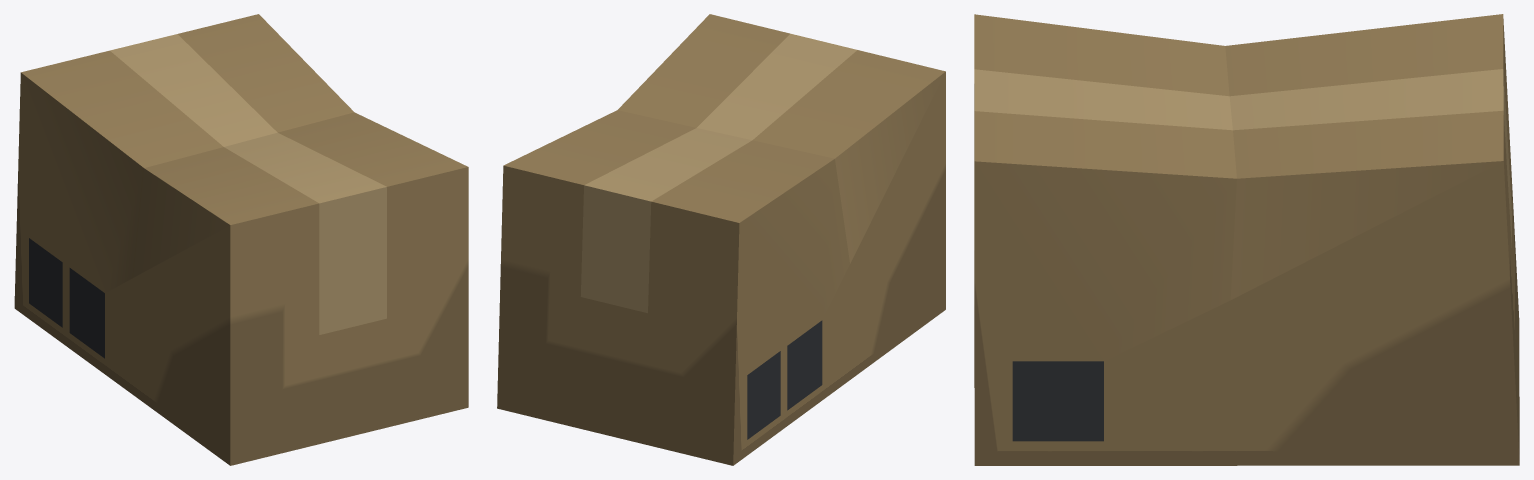
The model's file is SM_Prop_CardboardBox_05.fbx.
3 renders of one model, left to right at view 1: azimuth 30°, elevation 25°; view 2: azimuth 150°, elevation 25°; view 3: azimuth 270°, elevation 25°, orthographic. The views are drawn at different scales.
Parts seen in each view (by area): view 1: SM_Prop_CardboardBox_05; view 2: SM_Prop_CardboardBox_05; view 3: SM_Prop_CardboardBox_05.
Boxes of the visible parts, x1,y1,x2,y2 form: SM_Prop_CardboardBox_05: (14,14,468,465); SM_Prop_CardboardBox_05: (497,14,945,465); SM_Prop_CardboardBox_05: (974,14,1519,465).
Bounding box in the file's own units: 32.86 × 31.66 × 51.38.
Materials: 1 (1 with a texture image).
